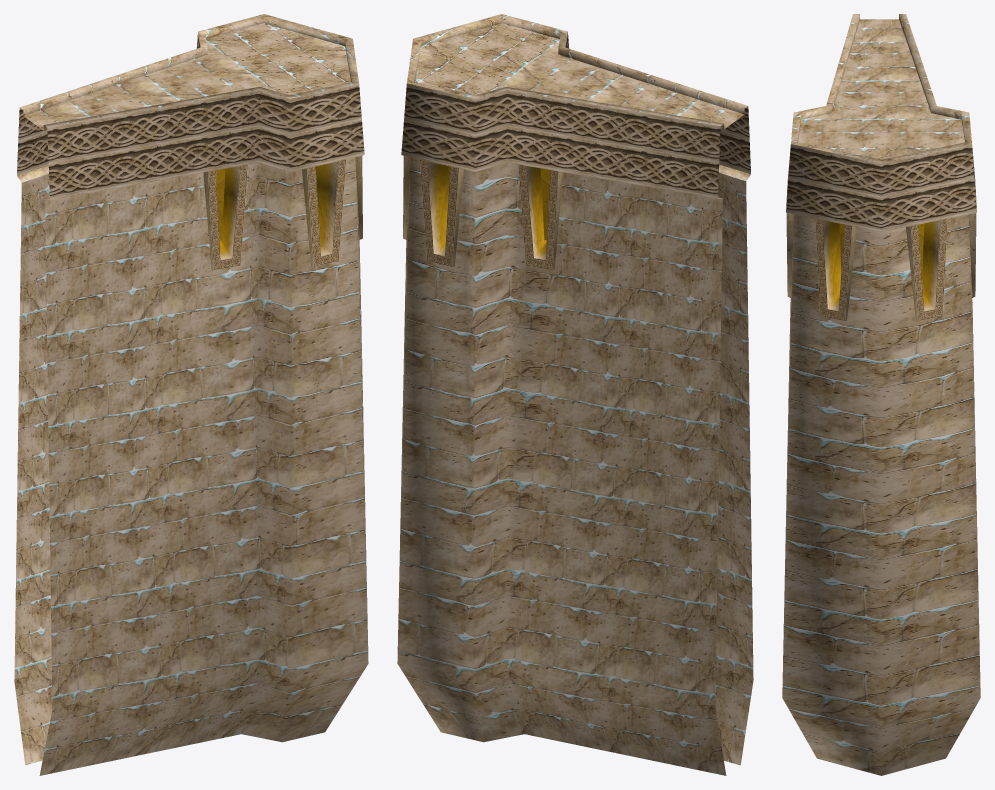
File: fortress04_06.obj
The picture shows the model from 3 angles, left to right: view 1: azimuth 30°, elevation 25°; view 2: azimuth 150°, elevation 25°; view 3: azimuth 270°, elevation 25°; orthographic projection. The views are drawn at different scales.
Visible parts, largest first — view 1: Geoset0, Geoset1, Geoset3, Geoset2; view 2: Geoset0, Geoset1, Geoset3, Geoset2; view 3: Geoset0, Geoset1, Geoset3, Geoset2, Geoset4.
Part boxes in pixels (box(x1,y1,x2,y2)): Geoset0: box(14, 14, 368, 775); Geoset1: box(17, 32, 364, 199); Geoset3: box(203, 156, 362, 270); Geoset2: box(208, 159, 346, 269); Geoset0: box(397, 14, 753, 775); Geoset1: box(401, 32, 750, 198); Geoset3: box(403, 156, 562, 269); Geoset2: box(419, 159, 558, 269); Geoset0: box(782, 14, 980, 775); Geoset1: box(786, 144, 976, 231); Geoset3: box(786, 190, 976, 320); Geoset2: box(787, 189, 975, 320); Geoset4: box(839, 223, 924, 279).
Bounding box in the file's own units: 35.41 × 67.47 × 19.44.
Materials: 4 (4 with a texture image).
